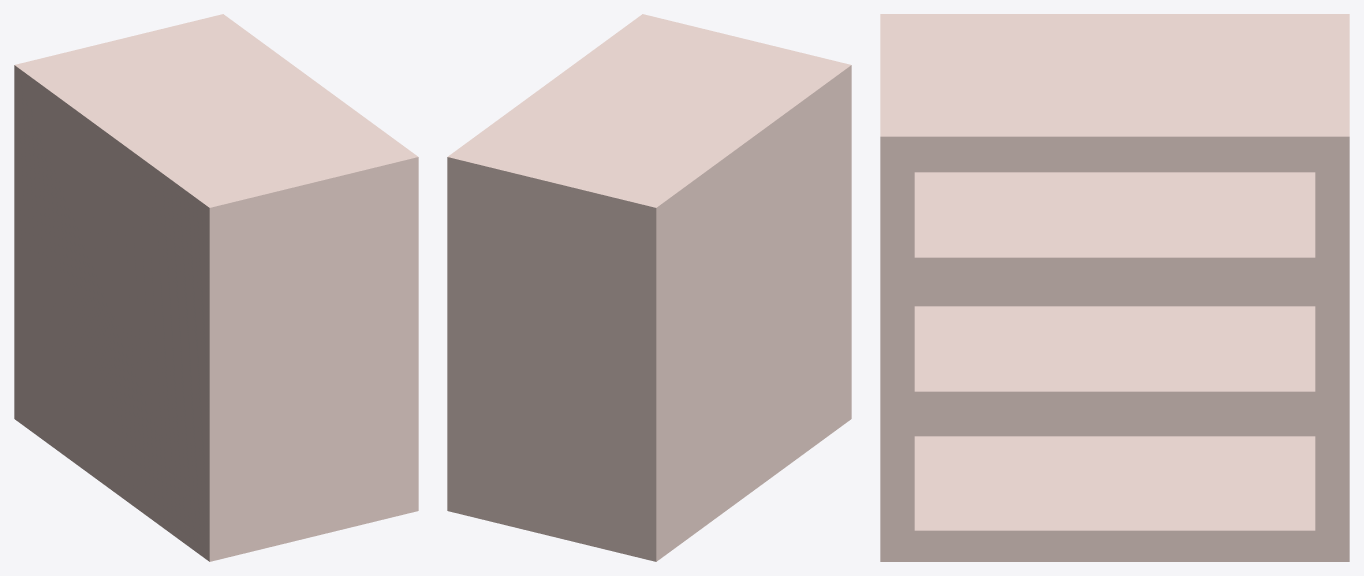
The model's file is shelf4.fbx.
The picture shows the model from 3 angles, left to right: view 1: azimuth 30°, elevation 25°; view 2: azimuth 150°, elevation 25°; view 3: azimuth 270°, elevation 25°; orthographic projection. The views are drawn at different scales.
Parts seen in each view (by area): view 1: shelf1; view 2: shelf1; view 3: shelf1.
Boxes of the visible parts, box(x1,y1,x2,y2) form: shelf1: box(14, 14, 418, 561); shelf1: box(447, 14, 851, 561); shelf1: box(880, 14, 1349, 561).
Size of the model in its own units: 90.18 by 55.7 by 90.18.
